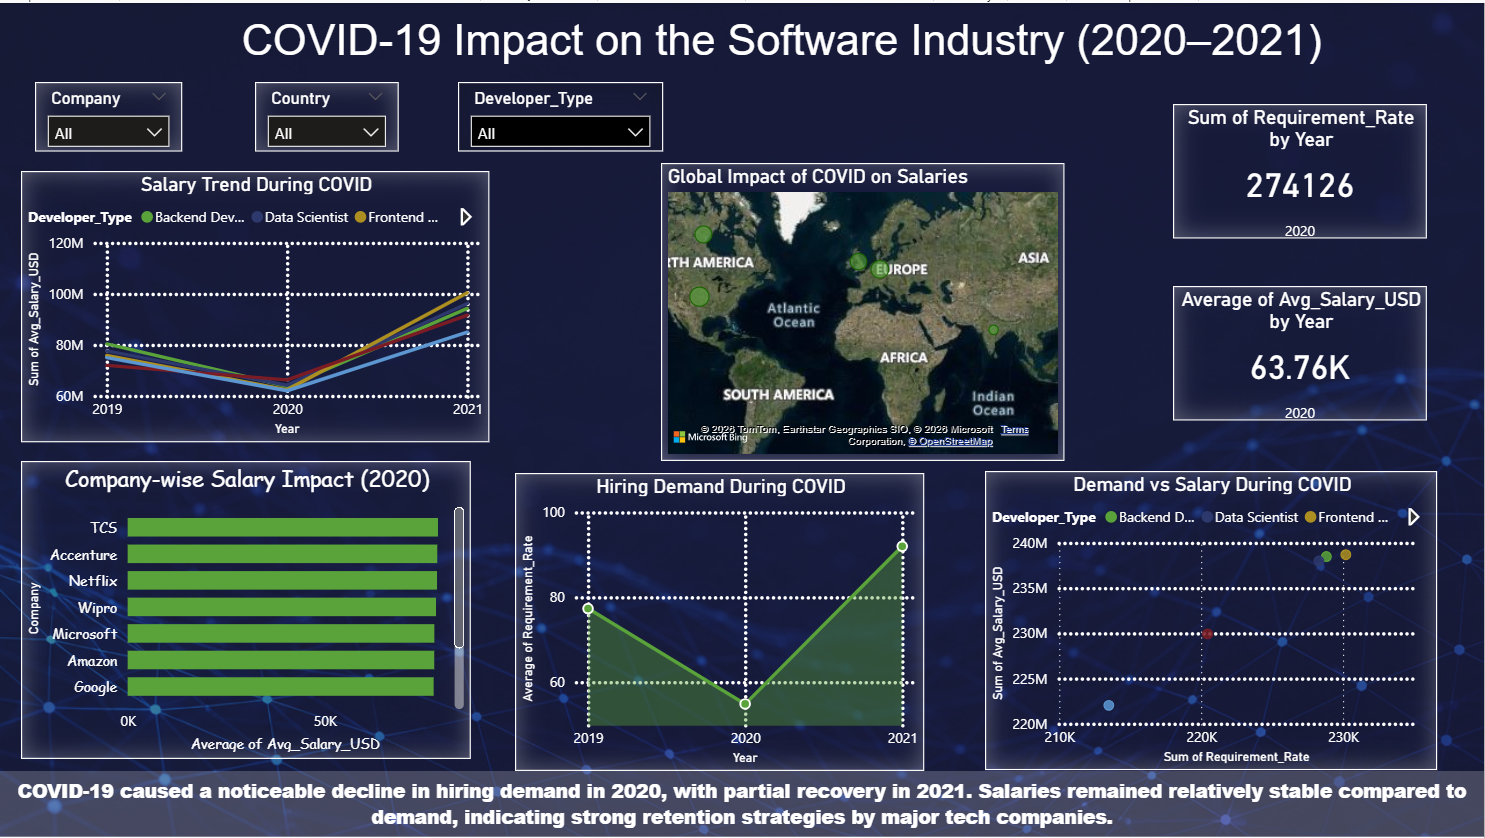

This screenshot's page, from the dashboard's own definition file:
{"tool":"powerbi","page":{"name":"2020 - 2021","canvas":[1280,720],"ordinal":1},"visuals":[{"type":"image","box":[0,0,1280,719],"z":0},{"type":"lineChart","title":"Salary Trend During COVID","fields":{"Category":["covid_detailed_2019_2021.Year"],"Y":["Sum(covid_detailed_2019_2021.Avg_Salary_USD)"],"Series":["covid_detailed_2019_2021.Developer_Type"]},"box":[18,145,404,234],"z":1000},{"type":"areaChart","title":"Hiring Demand During COVID","fields":{"Category":["covid_detailed_2019_2021.Year"],"Y":["Avg(covid_detailed_2019_2021.Requirement_Rate)"]},"box":[444,405,353,257],"z":2000},{"type":"map","title":"Global Impact of COVID on Salaries","fields":{"Category":["covid_detailed_2019_2021.Country"],"Size":["Sum(covid_detailed_2019_2021.Avg_Salary_USD)"]},"box":[570,138,348,257],"z":3000},{"type":"barChart","title":"Company-wise Salary Impact (2020)","fields":{"Category":["covid_detailed_2019_2021.Company"],"Y":["Avg(covid_detailed_2019_2021.Avg_Salary_USD)"]},"box":[18,395,388,257],"z":4000},{"type":"kpi","fields":{"Indicator":["Avg(covid_detailed_2019_2021.Avg_Salary_USD)"],"TrendLine":["covid_detailed_2019_2021.Year"]},"box":[1012,244,219,116],"z":5000},{"type":"kpi","fields":{"Indicator":["Sum(covid_detailed_2019_2021.Requirement_Rate)"],"TrendLine":["covid_detailed_2019_2021.Year"]},"box":[1012,87,219,116],"z":6000},{"type":"slicer","fields":{"Values":["covid_detailed_2019_2021.Country"]},"box":[220,68,124,60],"z":7000},{"type":"slicer","fields":{"Values":["covid_detailed_2019_2021.Developer_Type"]},"box":[395,68,177,60],"z":8000},{"type":"slicer","fields":{"Values":["covid_detailed_2019_2021.Company"]},"box":[30,68,127,60],"z":9000},{"type":"scatterChart","title":"Demand vs Salary During COVID","fields":{"X":["Sum(covid_detailed_2019_2021.Requirement_Rate)"],"Y":["Sum(covid_detailed_2019_2021.Avg_Salary_USD)"],"Series":["covid_detailed_2019_2021.Developer_Type"]},"box":[850,404,390,258],"z":10000},{"type":"textbox","box":[0,662,1280,57],"z":11000},{"type":"textbox","box":[202,6,945,56],"z":12000}]}

Visuals, with their boxes in screenshot pixels (x1, y1, x2, y2), scaled from the page's 1280x720 canvas onto the 1485x838 screenshot:
image: region(0, 0, 1484, 837)
"Salary Trend During COVID" lineChart: region(21, 169, 490, 441)
"Hiring Demand During COVID" areaChart: region(515, 471, 925, 770)
"Global Impact of COVID on Salaries" map: region(661, 161, 1065, 460)
"Company-wise Salary Impact (2020)" barChart: region(21, 460, 471, 759)
kpi - Avg(covid_detailed_2019_2021.Avg_Salary_USD) x covid_detailed_2019_2021.Year: region(1174, 284, 1428, 419)
kpi - Sum(covid_detailed_2019_2021.Requirement_Rate) x covid_detailed_2019_2021.Year: region(1174, 101, 1428, 236)
slicer - covid_detailed_2019_2021.Country: region(255, 79, 399, 149)
slicer - covid_detailed_2019_2021.Developer_Type: region(458, 79, 664, 149)
slicer - covid_detailed_2019_2021.Company: region(35, 79, 182, 149)
"Demand vs Salary During COVID" scatterChart: region(986, 470, 1439, 770)
textbox: region(0, 770, 1484, 837)
textbox: region(234, 7, 1331, 72)
